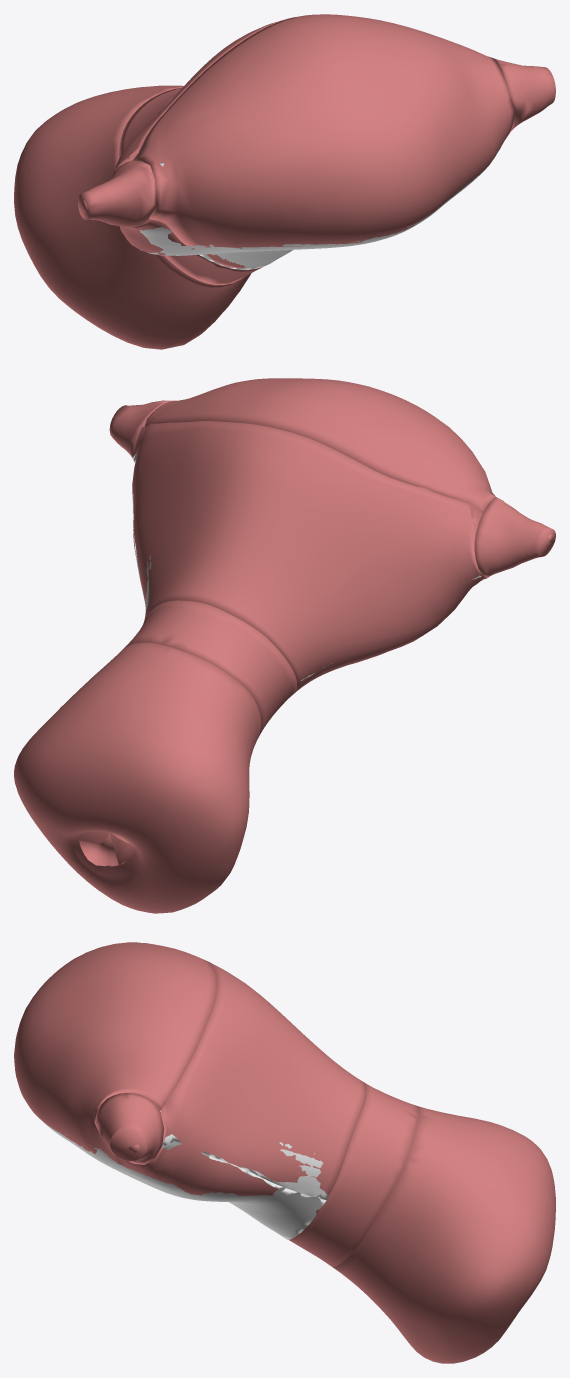
The model's file is vh_f_uterus-80.fbx.
3 renders of one model, top to bottom at view 1: azimuth 30°, elevation 25°; view 2: azimuth 150°, elevation 25°; view 3: azimuth 270°, elevation 25°, orthographic. The views are drawn at different scales.
Parts seen in each view (by area): view 1: VH_F_fundus_of_uterus, VH_F_cervix, VH_F_cornua, VH_F_posterior_wall_of_uterus, VH_F_lower_uterine_segment, VH_F_body_of_uterus; view 2: VH_F_body_of_uterus, VH_F_cervix, VH_F_fundus_of_uterus, VH_F_lower_uterine_segment, VH_F_cornua, VH_F_external_cervical_os; view 3: VH_F_cervix, VH_F_body_of_uterus, VH_F_fundus_of_uterus, VH_F_lower_uterine_segment, VH_F_posterior_wall_of_uterus, VH_F_cornua, VH_F_anterior_wall_of_uterus.
Part boxes in pixels (left/top/right/bottom): VH_F_fundus_of_uterus: left=132, top=14, right=516, bottom=248; VH_F_cervix: left=14, top=85, right=251, bottom=349; VH_F_cornua: left=78, top=58, right=555, bottom=227; VH_F_posterior_wall_of_uterus: left=140, top=147, right=500, bottom=269; VH_F_lower_uterine_segment: left=119, top=87, right=262, bottom=285; VH_F_body_of_uterus: left=114, top=18, right=511, bottom=268; VH_F_body_of_uterus: left=132, top=421, right=486, bottom=694; VH_F_cervix: left=14, top=642, right=261, bottom=913; VH_F_fundus_of_uterus: left=144, top=378, right=495, bottom=513; VH_F_lower_uterine_segment: left=123, top=600, right=296, bottom=737; VH_F_cornua: left=109, top=400, right=555, bottom=578; VH_F_external_cervical_os: left=79, top=833, right=135, bottom=866; VH_F_cervix: left=332, top=1106, right=555, bottom=1363; VH_F_body_of_uterus: left=115, top=962, right=366, bottom=1213; VH_F_fundus_of_uterus: left=14, top=942, right=217, bottom=1163; VH_F_lower_uterine_segment: left=289, top=1083, right=419, bottom=1266; VH_F_posterior_wall_of_uterus: left=40, top=1119, right=326, bottom=1239; VH_F_cornua: left=95, top=942, right=164, bottom=1164; VH_F_anterior_wall_of_uterus: left=160, top=1111, right=328, bottom=1199.
Bounding box in the file's own units: 5.25 × 4.7 × 5.87.
